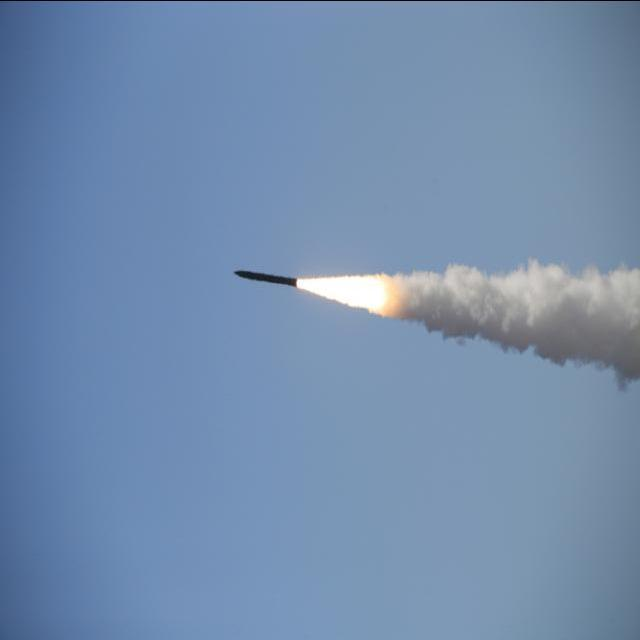Missile: (231, 267, 300, 290)
